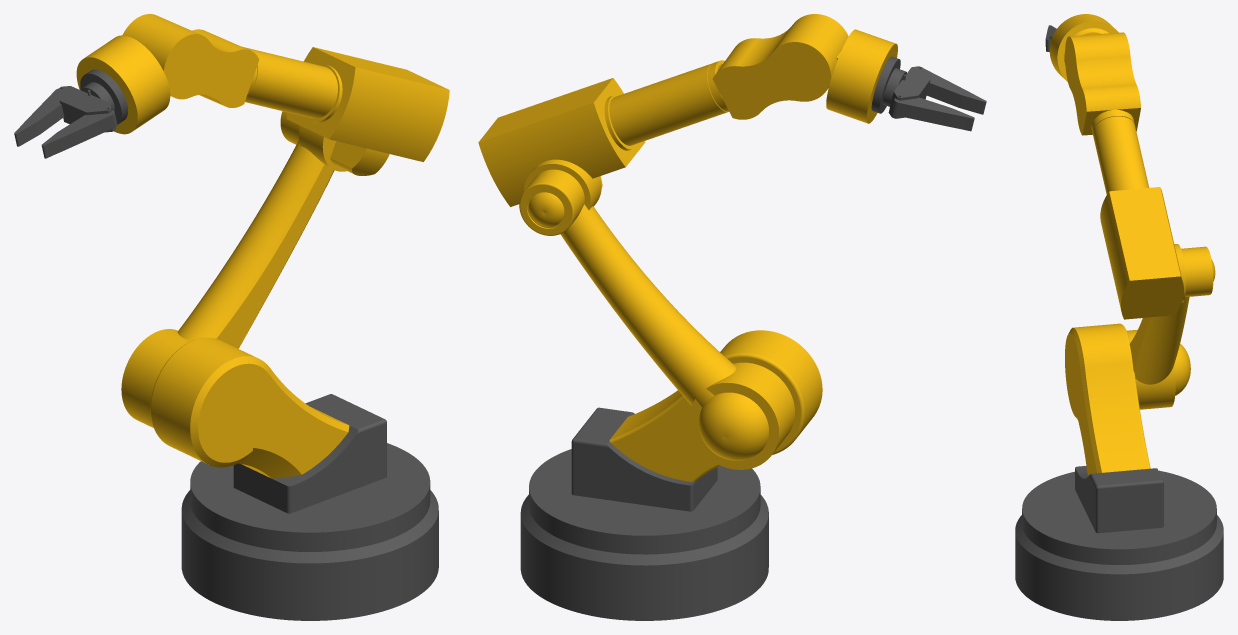
File: cobot_v1.gltf
The picture shows the model from 3 angles, left to right: view 1: azimuth 30°, elevation 25°; view 2: azimuth 150°, elevation 25°; view 3: azimuth 270°, elevation 25°; orthographic projection. The views are drawn at different scales.
Parts seen in each view (by area): view 1: Base (×2); view 2: Base (×2); view 3: Base (×2).
Part boxes in pixels (x1,y1,x2,y2): Base (×2): (14,14,449,620); Base (×2): (478,14,986,620); Base (×2): (1015,14,1223,620).
Size of the model in its own units: 0.6258 by 0.7589 by 0.3.
